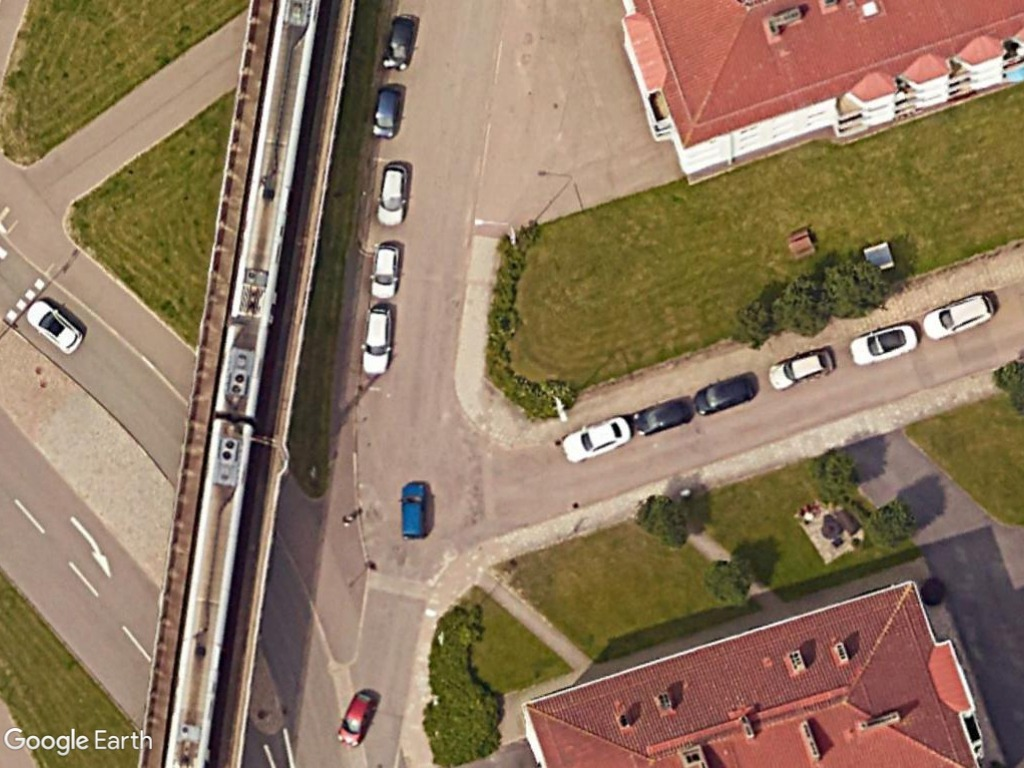car: (918, 288, 1002, 343), (559, 409, 639, 465), (23, 296, 90, 358), (848, 318, 921, 369), (765, 343, 836, 394), (689, 370, 762, 419), (373, 10, 422, 76), (331, 686, 380, 751), (359, 302, 398, 378), (633, 393, 691, 439), (375, 156, 409, 230), (368, 81, 409, 142), (398, 478, 432, 548), (368, 238, 404, 303)
